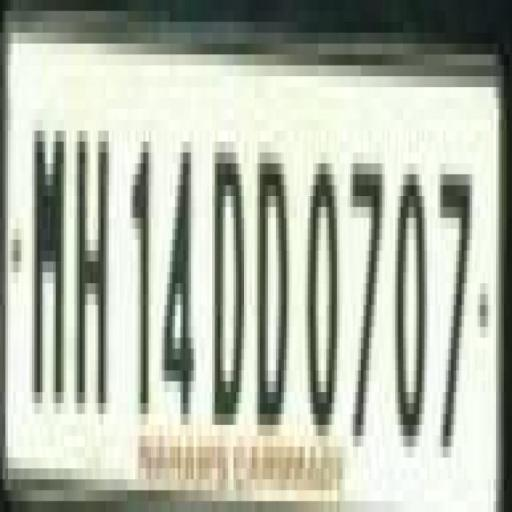number plate: (3, 21, 483, 512)
